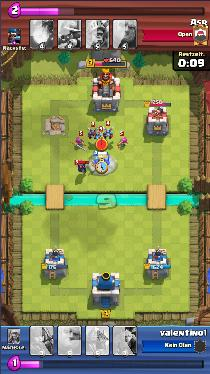ally_mini_pekka: (91, 154, 110, 170)
enemy_archer: (74, 137, 85, 147), (117, 137, 127, 148)
enemy_mini_pekka: (74, 160, 87, 175)
enemy_minion: (102, 126, 113, 139), (88, 129, 98, 138), (93, 131, 103, 140)
